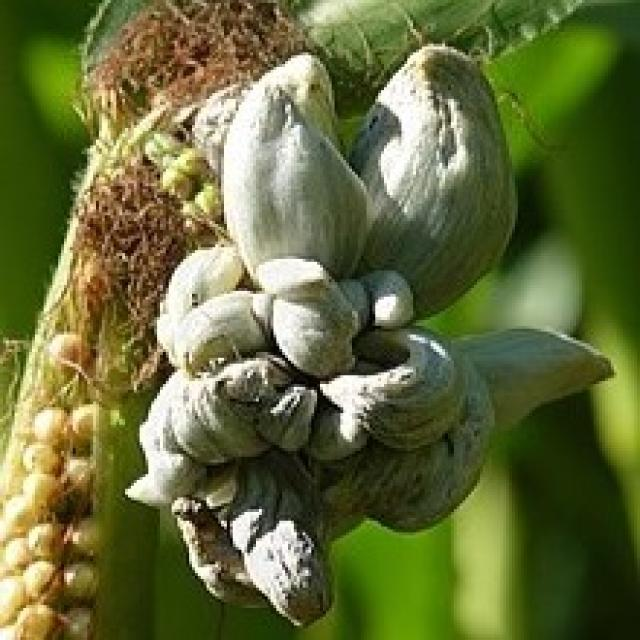Leaf_Scald: (115, 24, 640, 623)
